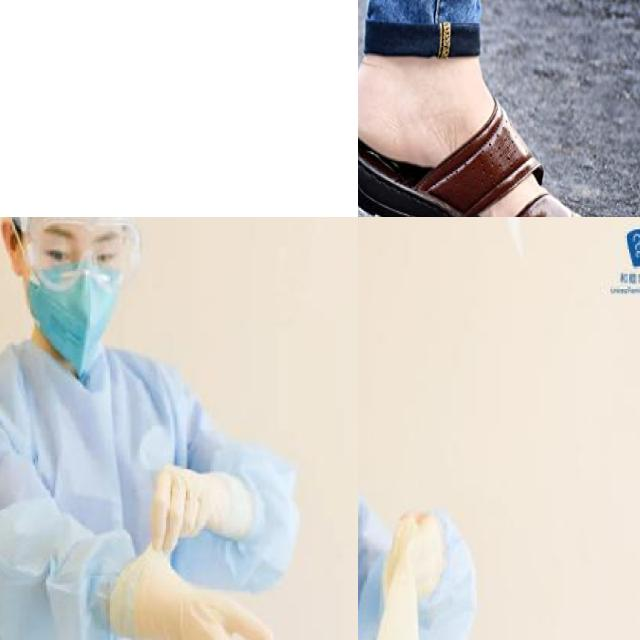Sandals: (358, 45, 613, 217)
face_mask: (26, 220, 127, 373)
glasses: (20, 217, 142, 292)
hand_glove: (141, 578, 298, 640), (148, 463, 234, 552)
person: (0, 217, 302, 640), (358, 217, 467, 640)
